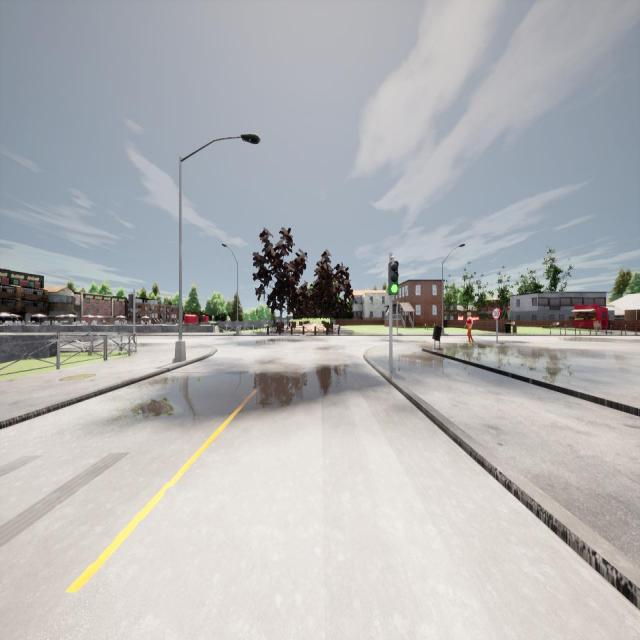Pedestrian: (466, 312, 474, 343), (270, 315, 276, 334)
Traffic_Signs: (492, 308, 501, 319)
traffic_light: (388, 262, 399, 294), (128, 294, 134, 309)
